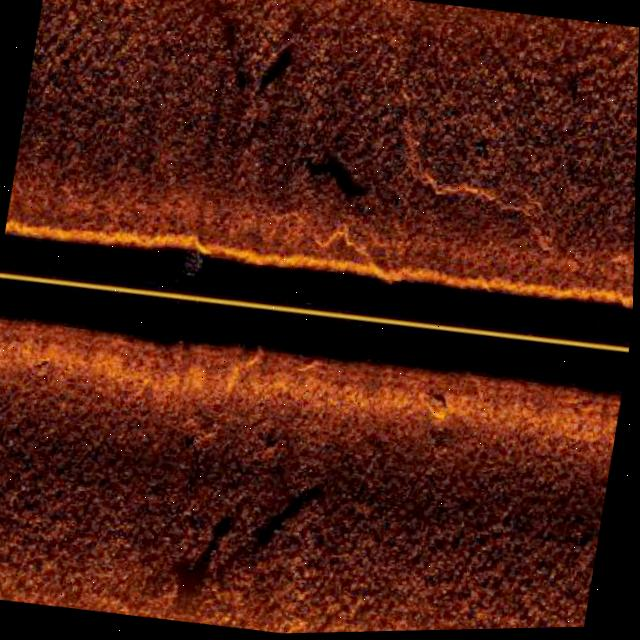other: (412, 390, 457, 424)
